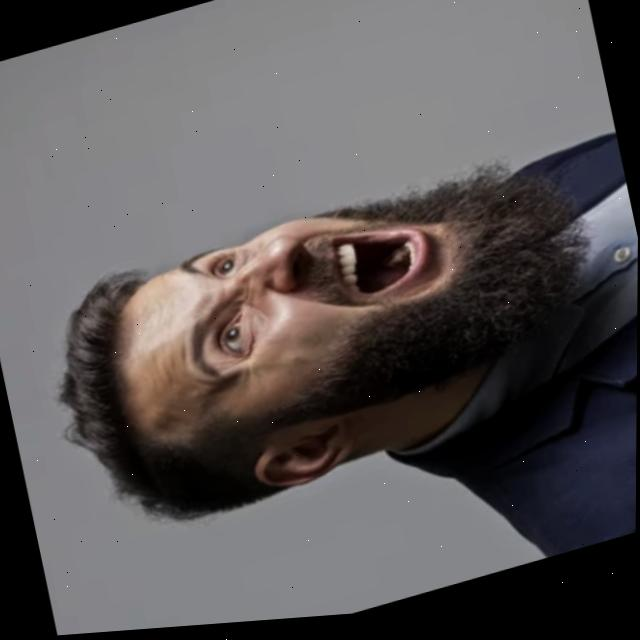angry: (73, 123, 613, 509)
